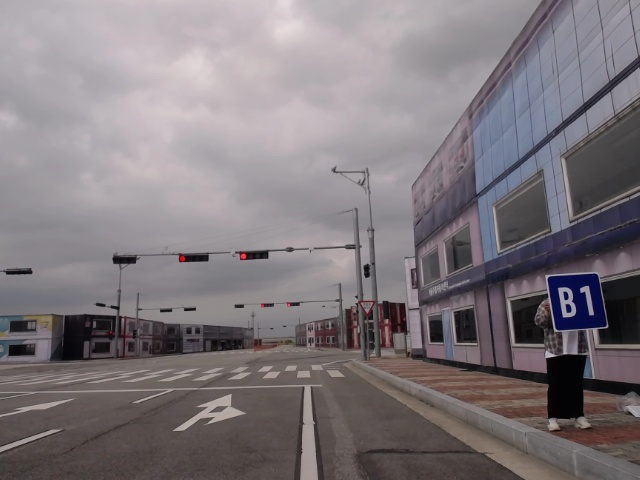delivery_b1: (546, 273, 608, 332)
red_4: (179, 253, 209, 262), (240, 251, 269, 260), (261, 303, 274, 308), (287, 302, 300, 307)
